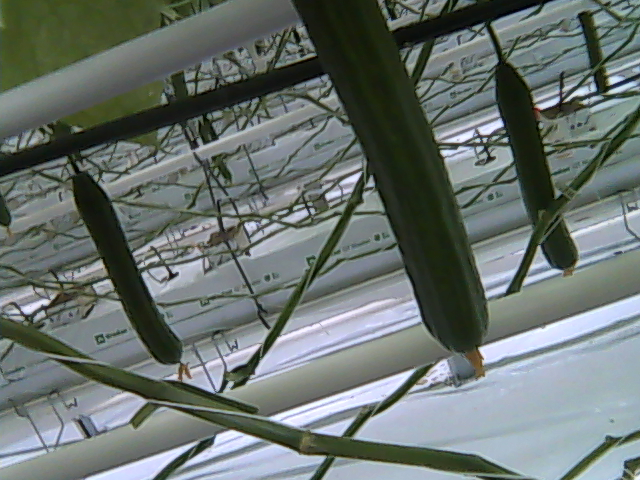concombre: (287, 1, 491, 382)
